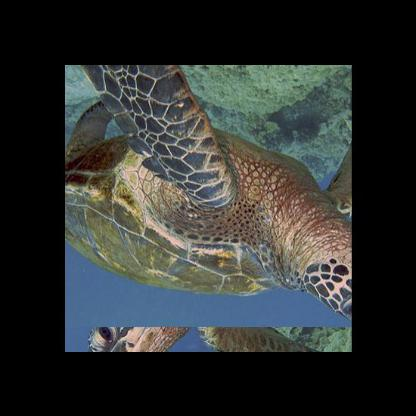turtle: (65, 64, 351, 350)
